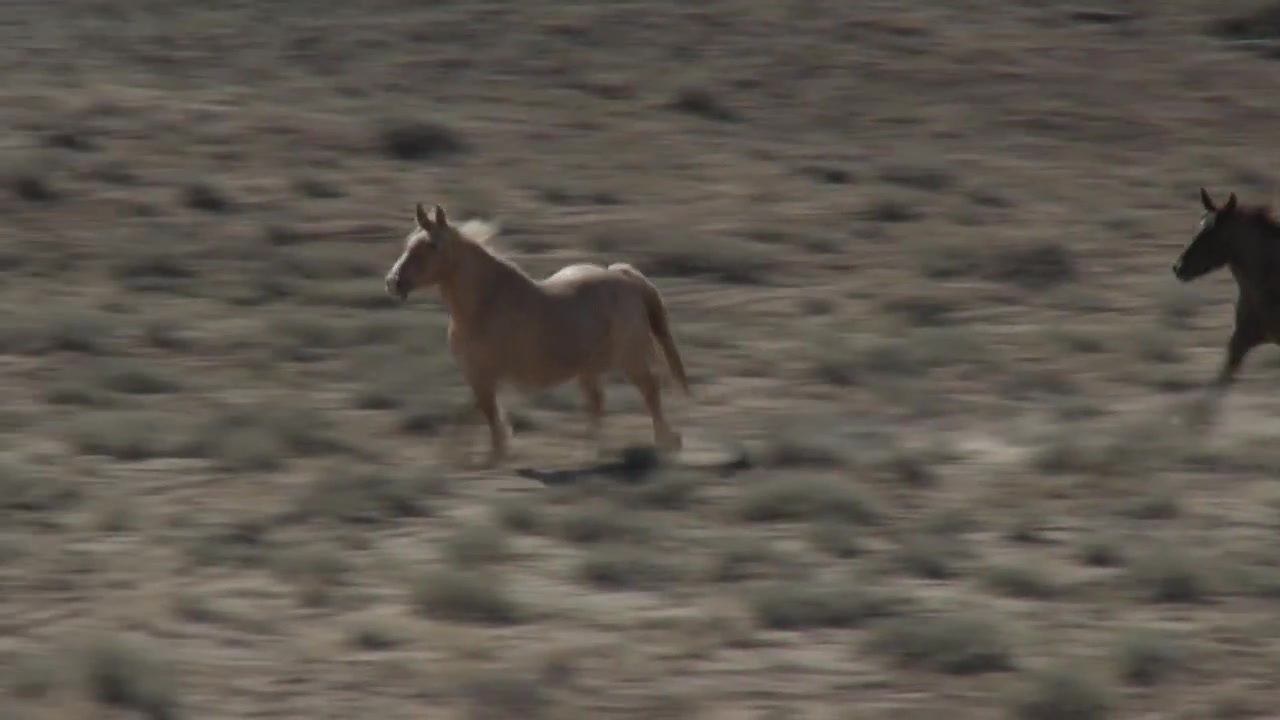horse: (384, 205, 694, 468), (1166, 183, 1280, 430)
